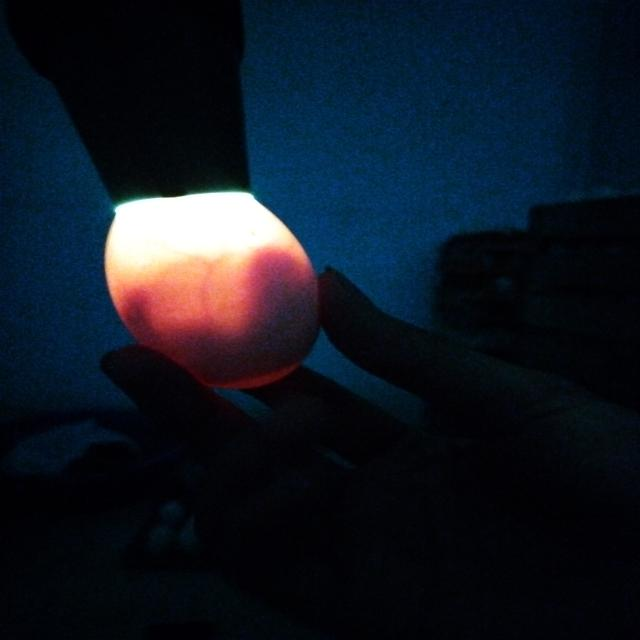Embriao: (122, 248, 325, 392)
